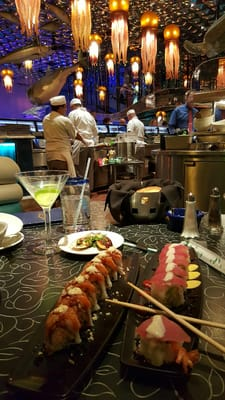pizza: (60, 177, 91, 234)
sushi: (0, 212, 23, 248)
